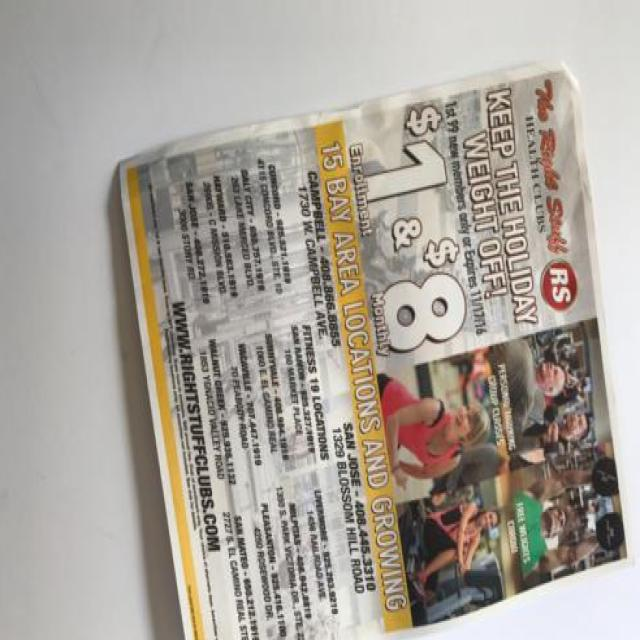kertas: (119, 56, 632, 640)
